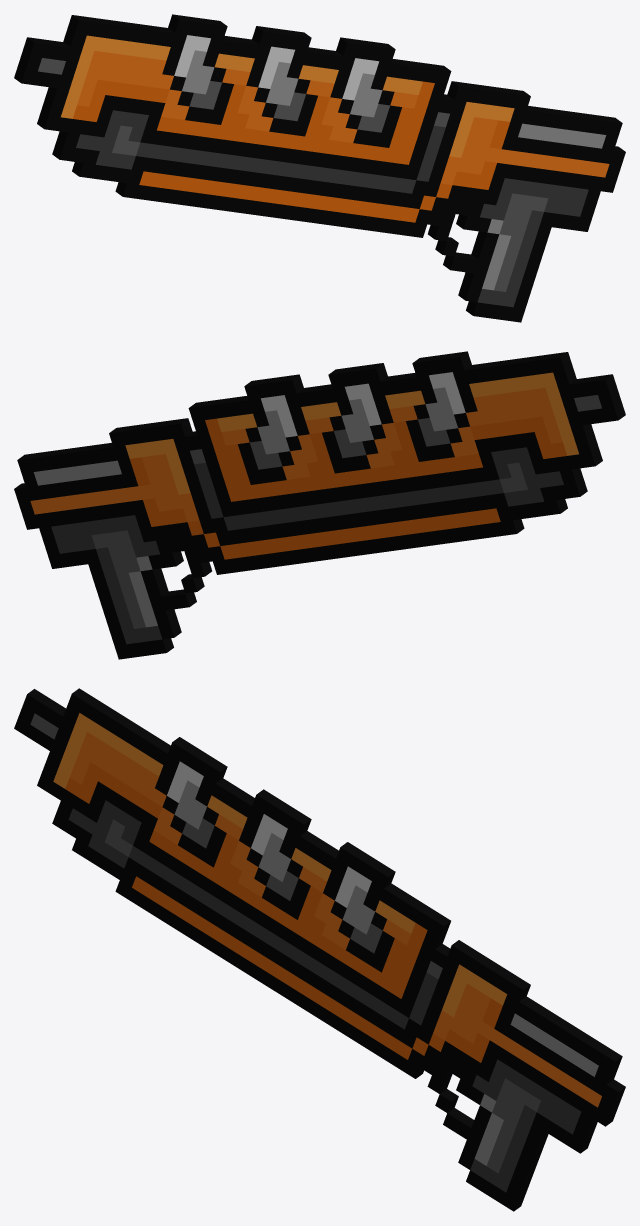
The model's file is Orange Paintball Gun.glb.
3 renders of one model, top to bottom at view 1: azimuth 30°, elevation 25°; view 2: azimuth 150°, elevation 25°; view 3: azimuth 330°, elevation 25°, orthographic.
Visible parts, largest first — view 1: Untitled; view 2: Untitled; view 3: Untitled.
Boxes of the visible parts, x1,y1,x2,y2 form: Untitled: [14, 14, 625, 322]; Untitled: [14, 351, 625, 659]; Untitled: [14, 688, 625, 1211].
Size of the model in its own units: 18.93 by 12.27 by 0.4.
1 material, 1 textured.
